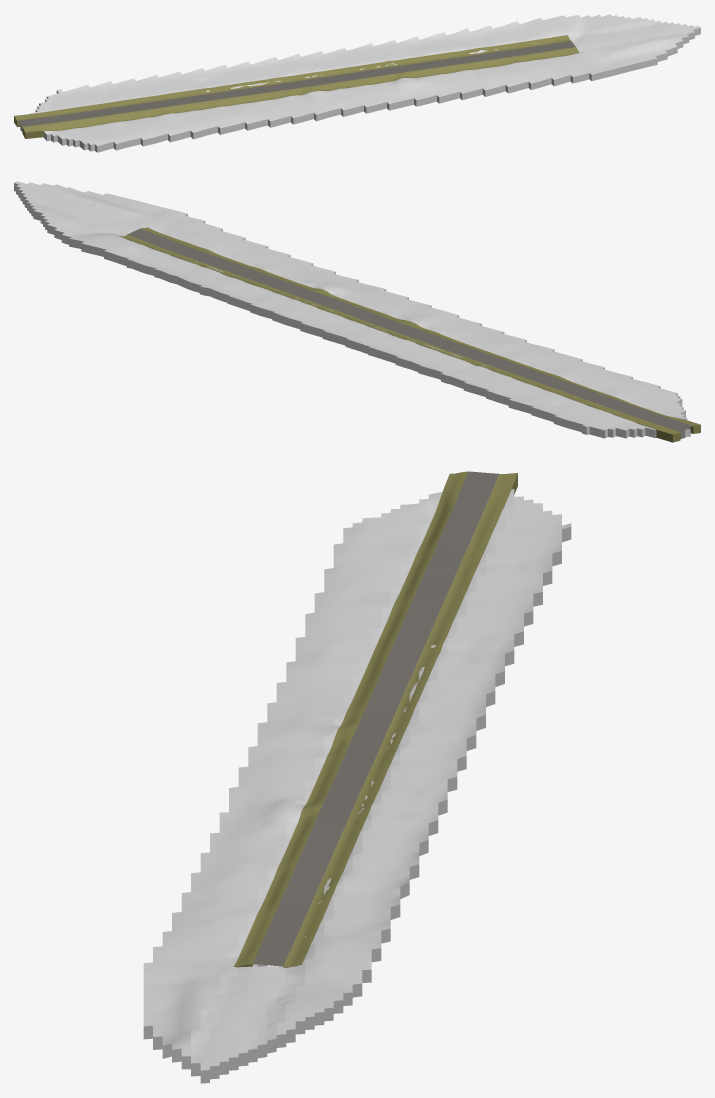
File: conz_121.glb
3 renders of one model, top to bottom at view 1: azimuth 30°, elevation 25°; view 2: azimuth 150°, elevation 25°; view 3: azimuth 270°, elevation 25°, orthographic. The views are drawn at different scales.
Visible parts, largest first — view 1: terrain121, verge121R, road121, verge121L; view 2: terrain121, road121, verge121L, verge121R; view 3: terrain121, road121, verge121L, verge121R.
Part boxes in pixels (x1,y1,x2,y2): terrain121: (20, 14, 700, 152); verge121R: (22, 47, 578, 138); road121: (17, 40, 575, 126); verge121L: (14, 35, 570, 127); terrain121: (14, 181, 690, 438); road121: (127, 228, 692, 432); verge121L: (119, 235, 680, 442); verge121R: (140, 227, 700, 433); terrain121: (143, 489, 571, 1083); road121: (252, 471, 498, 966); verge121L: (283, 473, 517, 967); verge121R: (234, 471, 467, 967).
Bounding box in the file's own units: 298 × 9.4 × 90.
